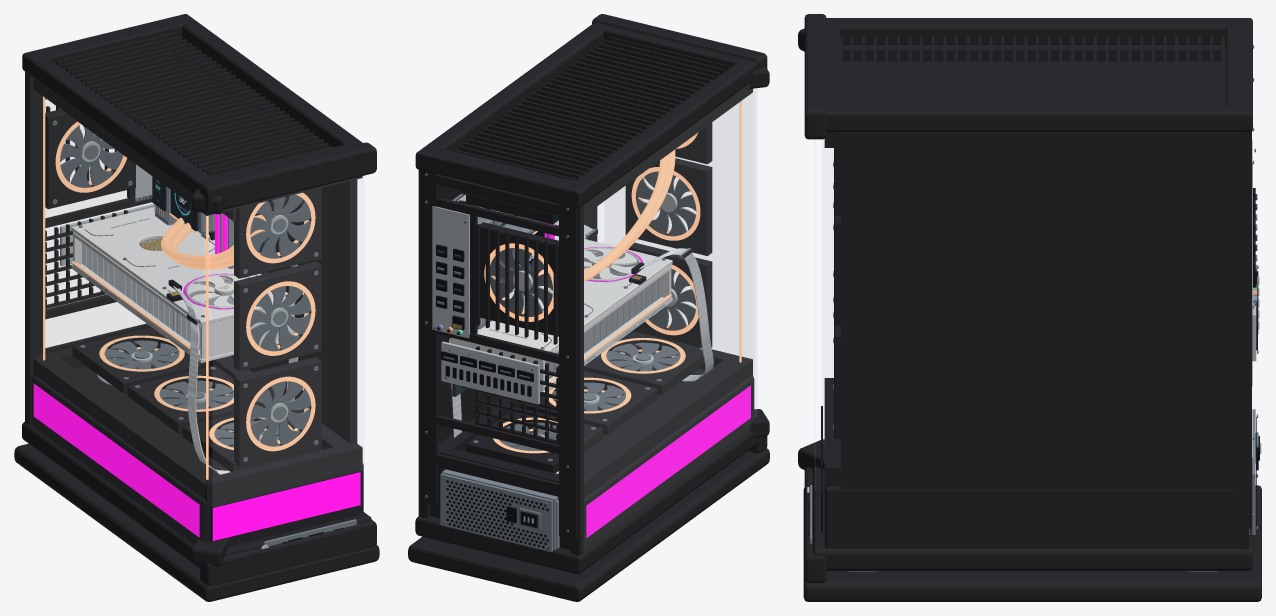
Rendered from showcase92-sunset.glb.
The picture shows the model from 3 angles, left to right: view 1: azimuth 30°, elevation 25°; view 2: azimuth 150°, elevation 25°; view 3: azimuth 270°, elevation 25°; orthographic projection. The views are drawn at different scales.
Parts seen in each view (by area): view 1: s83-surface-9addd415-0fd4-499e-b045-a3b5ee8d4a1f, s83-surface-b78ac276-4bc9-493d-9145-a3e29bf0c82e, s83-surface-aa7f7e0b-ae0c-48e4-bd0b-5f0b10c7bdc0, s83-fan-12, s83-fan-13, s83-fan-14, s83-fan-11, s83-fan-8, s83-fan-9, s83-fan-4, s83-surface-56c3fbcf-b8f9-4d30-9ceb-991485d7e2bf; view 2: s83-surface-9addd415-0fd4-499e-b045-a3b5ee8d4a1f, s83-surface-b7561736-e6b9-4268-9775-73a61760704b, s83-surface-aa7f7e0b-ae0c-48e4-bd0b-5f0b10c7bdc0, s83-surface-b78ac276-4bc9-493d-9145-a3e29bf0c82e, s83-fan-13, s83-fan-11, s83-fan-10, s83-fan-12, s83-fan-4, s83-fan-9; view 3: s83-surface-9addd415-0fd4-499e-b045-a3b5ee8d4a1f.
Part boxes in pixels (bbox=[...]): s83-surface-9addd415-0fd4-499e-b045-a3b5ee8d4a1f: bbox=[14, 14, 379, 601]; s83-surface-b78ac276-4bc9-493d-9145-a3e29bf0c82e: bbox=[33, 213, 360, 540]; s83-surface-aa7f7e0b-ae0c-48e4-bd0b-5f0b10c7bdc0: bbox=[43, 96, 315, 479]; s83-fan-12: bbox=[250, 381, 311, 446]; s83-fan-13: bbox=[250, 286, 311, 351]; s83-fan-14: bbox=[250, 194, 311, 258]; s83-fan-11: bbox=[60, 125, 123, 187]; s83-fan-8: bbox=[104, 340, 179, 371]; s83-fan-9: bbox=[159, 380, 233, 411]; s83-fan-4: bbox=[185, 275, 245, 309]; s83-surface-56c3fbcf-b8f9-4d30-9ceb-991485d7e2bf: bbox=[171, 190, 194, 228]; s83-surface-9addd415-0fd4-499e-b045-a3b5ee8d4a1f: bbox=[408, 14, 769, 601]; s83-surface-b7561736-e6b9-4268-9775-73a61760704b: bbox=[604, 88, 755, 375]; s83-surface-aa7f7e0b-ae0c-48e4-bd0b-5f0b10c7bdc0: bbox=[484, 101, 741, 453]; s83-surface-b78ac276-4bc9-493d-9145-a3e29bf0c82e: bbox=[542, 222, 750, 537]; s83-fan-13: bbox=[636, 171, 696, 236]; s83-fan-11: bbox=[490, 248, 552, 316]; s83-fan-10: bbox=[606, 342, 680, 373]; s83-fan-12: bbox=[649, 268, 696, 330]; s83-fan-4: bbox=[584, 248, 638, 282]; s83-fan-9: bbox=[552, 382, 625, 413]; s83-surface-9addd415-0fd4-499e-b045-a3b5ee8d4a1f: bbox=[798, 14, 1261, 601].
Bounding box in the file's own units: 1.37 × 3 × 2.56.
Materials: 23 (22 with a texture image).
